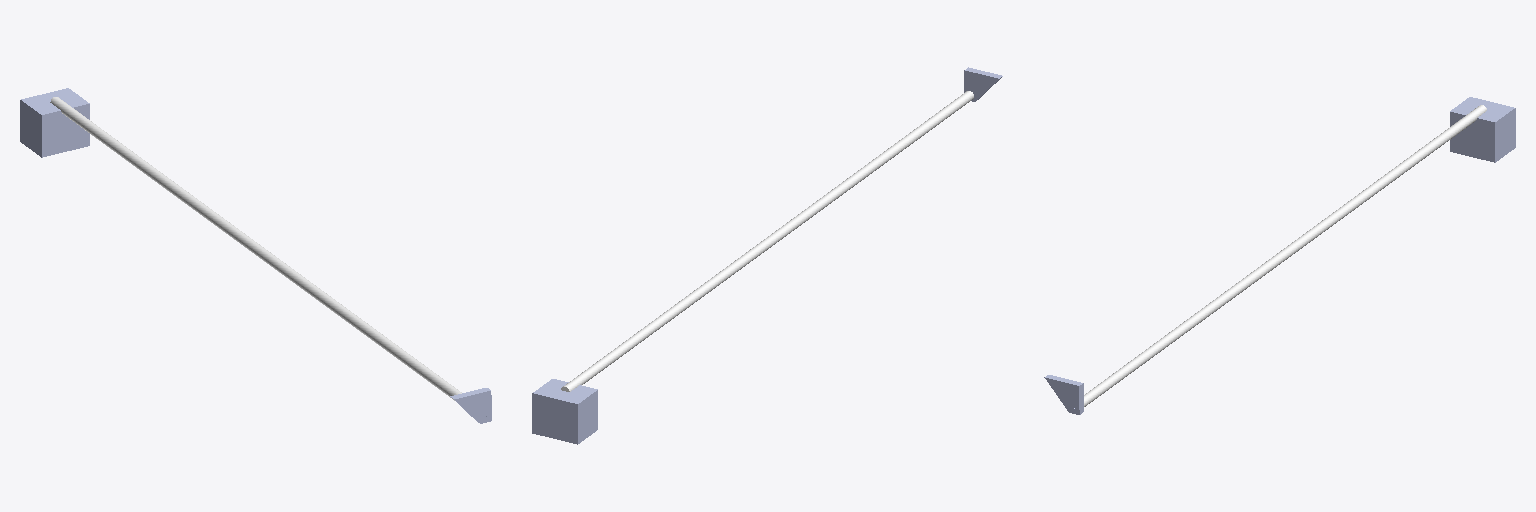
URDF robot description (monopod-fixed):
<?xml version="1.0" encoding="utf-8"?>
<!-- This URDF was automatically created by SolidWorks to URDF Exporter! Originally created by Stephen Brawner ([email redacted])
     Commit Version: 1.6.0-1-g15f4949  Build Version: 1.6.7594.29634
     For more information, please see http://wiki.ros.org/sw_urdf_exporter -->
<robot name="monopod-fixed">
  <link name="world" />

<!-- Central pivot link -->

  <link name="central_pivot_link">
    <inertial>
      <origin
        xyz="0 0 80E-3"
        rpy="0 0 0" />
      <mass
        value="2.424" />
      <inertia
        ixx="20310.796E-6"
        ixy="-2.157E-6"
        ixz="-67.637E-6"
        iyy="21642.88E-6"
        iyz="-19.042E-6"
        izz="8571.224E-6" />
    </inertial>
    <visual>
      <origin
        xyz="0 0 0"
        rpy="0 0 0" />
      <geometry>
        <mesh
          filename="package://monopod-fixed/meshes/central_pivot.STL" />
      </geometry>
      <material
        name="">
        <color
          rgba="0.792156862745098 0.819607843137255 0.933333333333333 1" />
      </material>
    </visual>
  </link>

<!-- Connect link to world. rotates in yaw -->

  <joint name="planarizer_yaw_joint" type="fixed">
      <origin
        xyz="0 0 0.11"
        rpy="0 3.14159265359 0" />
     <parent link="world"/>
     <child link="central_pivot_link"/>
     <axis xyz="0 0 1" />
     <dynamics
       damping="0.01"
       friction="0.001" />
  </joint>

  <!-- Boom link -->

  <link name="boom_link">
    <inertial>
      <origin xyz="0 -1.0 0" rpy="0 0 0" />
    <mass value="0.12458" />
    <inertia
      ixx="0.023361"
      ixy="0"
      ixz="4.0264E-18"
      iyy="3.5039E-06"
      iyz="-2.189E-18"
      izz="0.023361" />
    </inertial>
    <visual>
      <origin xyz="0 0 0" rpy="0 0 0" />
      <geometry>
        <mesh filename="package://monopod-fixed/meshes/boom.STL" />
      </geometry>
      <material name="">
        <color rgba="1 1 1 1" />
      </material>
    </visual>
    <collision>
      <origin xyz="0 0 0" rpy="0 0 0" />
      <geometry>
        <mesh filename="package://monopod-fixed/meshes/boom.STL" />
      </geometry>
    </collision>
  </link>

<!-- Boom pitch joint -->

  <joint name="planarizer_pitch_joint" type="continuous">
    <origin xyz="0 0 0" rpy="0 0 0"/>
    <parent link="central_pivot_link" />
    <child link="boom_link" />
    <axis xyz="1 0 0" />
    <dynamics damping="0.01" friction="0.001" />
  </joint>


  <link name="hip_link">
    <inertial>
      <origin
        xyz="-2.016E-3 26.789E-3 18.092E-3"
        rpy="0 0 0" />
      <mass value="0.151" />
      <inertia
        ixx="308.333E-6"
        ixy="4.166E-6"
        ixz="-0.452E-6"
        iyy="222.631E-6"
        iyz="-35.508E-6"
        izz="110.366E-6" />
    </inertial>
    <visual>
      <origin xyz="0 0 0" rpy="0 0 0" />
      <geometry>
        <mesh
          filename="package://monopod-fixed/meshes/hip.STL" />
      </geometry>
      <material name="">
        <color rgba="0.792156862745098 0.819607843137255 0.933333333333333 1" />
      </material>
    </visual>
    <collision>
      <origin xyz="0 0 0" rpy="0 0 0" />
      <geometry>
        <mesh filename="package://monopod-fixed/meshes/hip.STL" />
      </geometry>
    </collision>
  </link>

<!-- Hip free joint -->

  <joint name="boom_connector_joint" type="fixed">
    <origin xyz="0 -2.01 0" rpy="-1.57 0 -1.57" />
    <parent
      link="boom_link" />
    <child
      link="hip_link" />
    <axis
      xyz="1 0 0" />
    <dynamics
      damping="0.01"
      friction="0.001" />
  </joint>

<!-- Upper leg link -->

  <link name="upper_leg_link">
    <inertial>
      <origin
        xyz="-7.414E-3 -0.013E-3 112.131E-3"
        rpy="3.14159265359 0 0" />
      <!-- <origin
        xyz="-7.414E-3 -0.013E-3 87.869E-3"
        rpy="0 0 0" /> -->
      <mass
        value="0.176" />
      <inertia
        ixx="629.368E-6"
        ixy="-0.003E-6"
        ixz="56.169E-6"
        iyy="627.685E-6"
        iyz="0.082E-6"
        izz="38.329E-6" />
    </inertial>
    <visual>
      <origin
        xyz="0 0 0.2"
        rpy="3.14159265359 0 0" />
      <!-- <origin
        xyz="0 0 0"
        rpy="0 0 0" /> -->
      <geometry>
        <mesh filename="package://monopod-fixed/meshes/upper_leg.STL" />
      </geometry>
      <material name="">
        <color rgba="0.79216 0.81961 0.93333 1" />
      </material>
    </visual>
    <collision>
      <origin
        xyz="0 0 0.2"
        rpy="3.14159265359 0 0" />
      <!-- <origin
        xyz="0 0 0"
        rpy="0 0 0" /> -->
      <geometry>
        <mesh filename="package://monopod-fixed/meshes/upper_leg.STL" />
      </geometry>
    </collision>
  </link>

<!-- Actuated hip joint -->

  <joint
    name="hip_joint"
    type="revolute">
    <origin
      xyz="0.035 0 0"
      rpy="1.57 0 0" />
    <parent link="hip_link" />
    <child link="upper_leg_link" />
    <axis xyz="1 0 0" />
    <limit
      lower="-6.28"
      upper="6.28"
      effort="50"
      velocity="3.1415926535916" />
    <dynamics
      damping="0.01"
      friction="0.001" />
  </joint>

<!-- Lower leg link -->

  <link name="lower_leg_link">
    <inertial>
      <origin
        xyz="0.832E-3 0.048E-3 -94.965E-3"
        rpy="0 0 0" />
      <mass value="0.067" />
      <inertia
        ixx="324.934E-6"
        ixy="0.003E-6"
        ixz="-5.262E-6"
        iyy="324.437E-6"
        iyz="0.254E-6"
        izz="4.053E-6" />
    </inertial>
    <visual>
      <origin
        xyz="0 0 0"
        rpy="0 0 0" />
      <geometry>
        <mesh
          filename="package://monopod-fixed/meshes/lower_leg.STL" />
      </geometry>
      <material
        name="">
        <color rgba="0.79216 0.81961 0.93333 1" />
      </material>
    </visual>
    <collision>
      <origin
        xyz="0 0 0"
        rpy="0 0 0" />
      <geometry>
        <mesh
          filename="package://monopod-fixed/meshes/lower_leg.STL" />
      </geometry>
    </collision>
  </link>

<!-- Lower leg actuated joint -->

  <joint
    name="knee_joint"
    type="continuous">
    <!-- type="revolute"> -->
    <origin
      xyz="0.019 0 0.2"
      rpy="3.14159265359 0 0" />
    <parent link="upper_leg_link" />
    <child link="lower_leg_link" />
    <axis xyz="1 0 0" />
    <!-- <limit
      lower="-6.28"
      upper="6.28"
      effort="50"
      velocity="3.1415926535916" /> -->
    <dynamics
      damping="0.01"
      friction="0.001" />
  </joint>
</robot>

--- Render facts (derived) ---
Views: 3 orthographic renders of the robot side by side, from view 1: azimuth 30°, elevation 25°; view 2: azimuth 150°, elevation 25°; view 3: azimuth 330°, elevation 25°.
Robot: monopod-fixed — 6 links, 5 joints (1 revolute, 2 continuous, 2 fixed); root link world; default pose: every joint at zero.
Links seen in each view (by area): view 1: boom_link, central_pivot_link, hip_link; view 2: boom_link, central_pivot_link, hip_link; view 3: boom_link, central_pivot_link, hip_link.
Boxes of the visible links, bbox=[...] form: boom_link: bbox=[50, 97, 461, 400]; central_pivot_link: bbox=[20, 88, 89, 157]; hip_link: bbox=[450, 388, 491, 423]; boom_link: bbox=[561, 91, 973, 391]; central_pivot_link: bbox=[532, 379, 597, 444]; hip_link: bbox=[964, 67, 1002, 101]; boom_link: bbox=[1084, 105, 1486, 406]; central_pivot_link: bbox=[1450, 97, 1515, 162]; hip_link: bbox=[1044, 375, 1083, 414].
Bounding box of the posed robot: 0.1501 × 2.07 × 0.175 m (x, y, z).
3 mesh visuals loaded from 5 distinct referenced files (3 binary STL); not drawn: 2 (reference not matched to a file when rendering).
